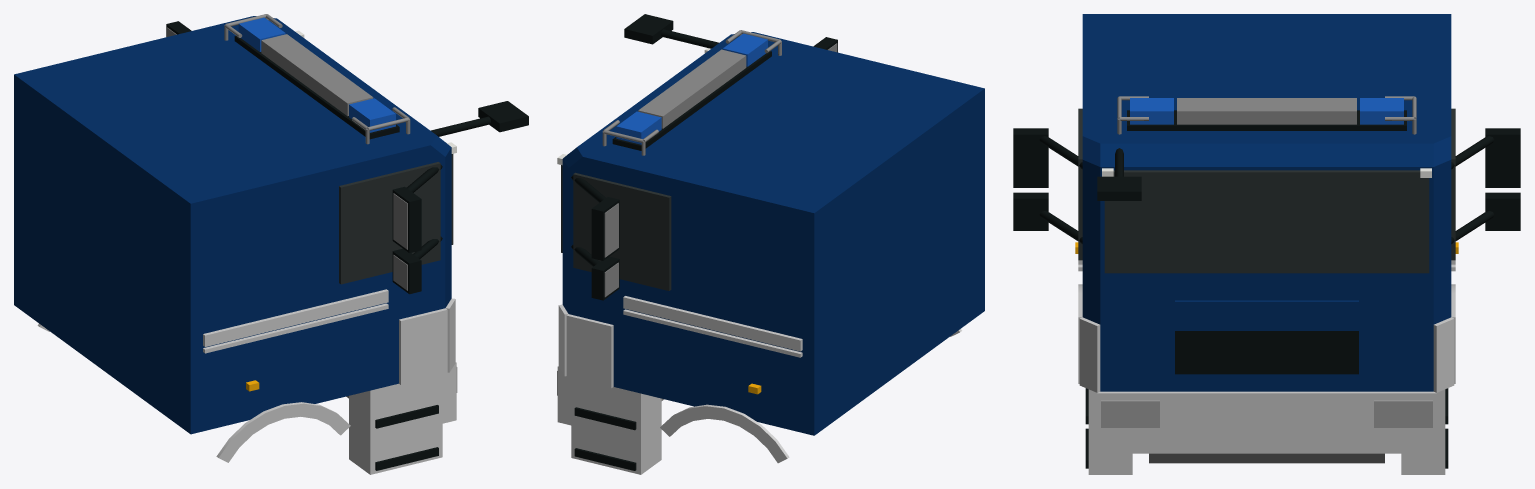
File: arocs-1835-ak-cab.glb
The picture shows the model from 3 angles, left to right: view 1: azimuth 30°, elevation 25°; view 2: azimuth 150°, elevation 25°; view 3: azimuth 270°, elevation 25°; orthographic projection. The views are drawn at different scales.
Visible parts, largest first — view 1: cab, cab-glass; view 2: cab, cab-glass; view 3: cab, cab-glass, cab-lens.
Part boxes in pixels (box(x1,y1,x2,y2)): cab: box(14, 14, 528, 474); cab-glass: box(339, 154, 453, 284); cab: box(557, 14, 984, 474); cab-glass: box(561, 165, 671, 290); cab: box(1013, 14, 1520, 474); cab-glass: box(1078, 108, 1455, 273); cab-lens: box(1075, 168, 1458, 427).
Size of the model in its own units: 2.82 by 2.62 by 3.44.
